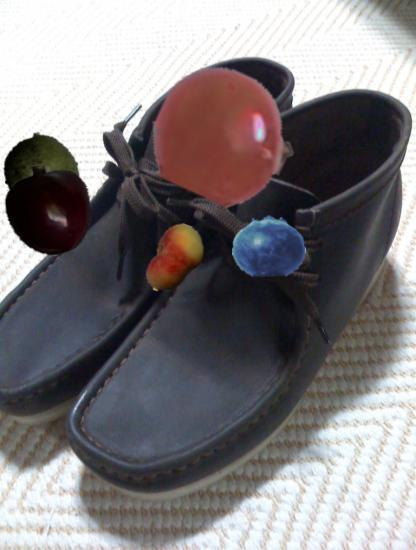Avocado: (3, 131, 78, 206)
Cherry: (3, 166, 94, 257)
Huckleberry: (232, 209, 307, 284)
Peach: (140, 223, 214, 297)
Redcurrant: (150, 63, 297, 210)
